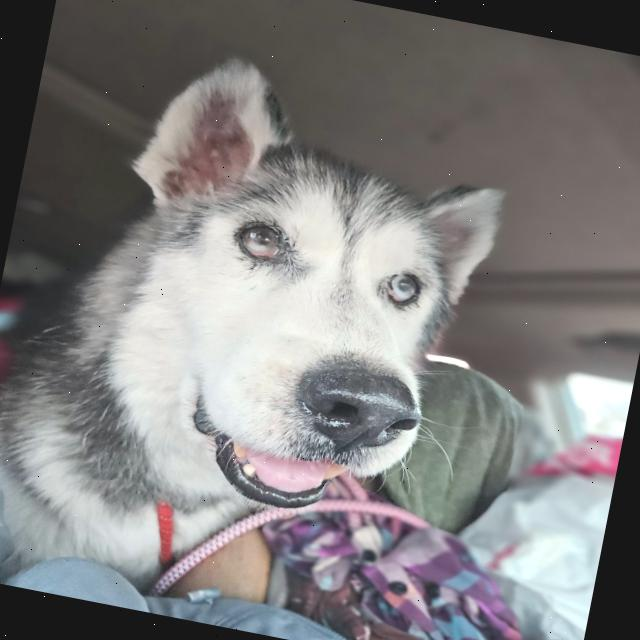siberian_husky_dog: (43, 21, 550, 574)
